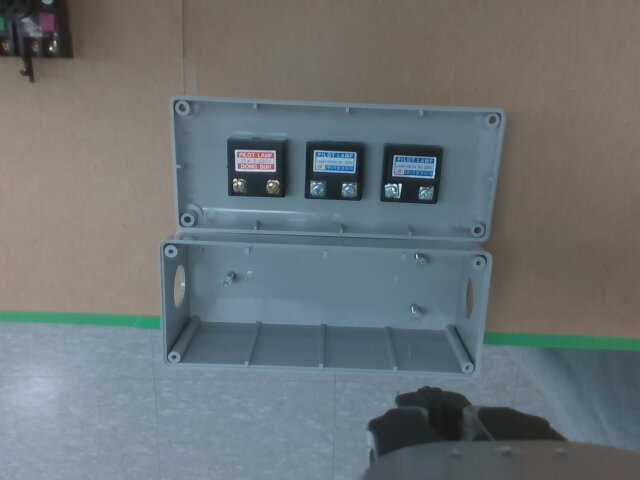L1(1): (232, 178, 246, 193)
L1(2): (265, 180, 280, 194)
L2(1): (309, 180, 325, 196)
L2(2): (341, 183, 356, 197)
L3(1): (385, 183, 401, 198)
L3(2): (418, 185, 434, 200)
